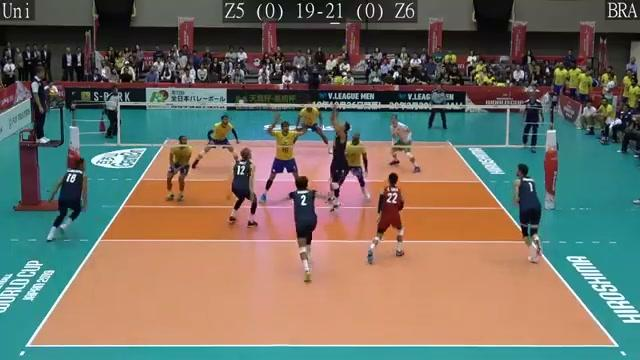ball: (331, 73, 345, 84)
